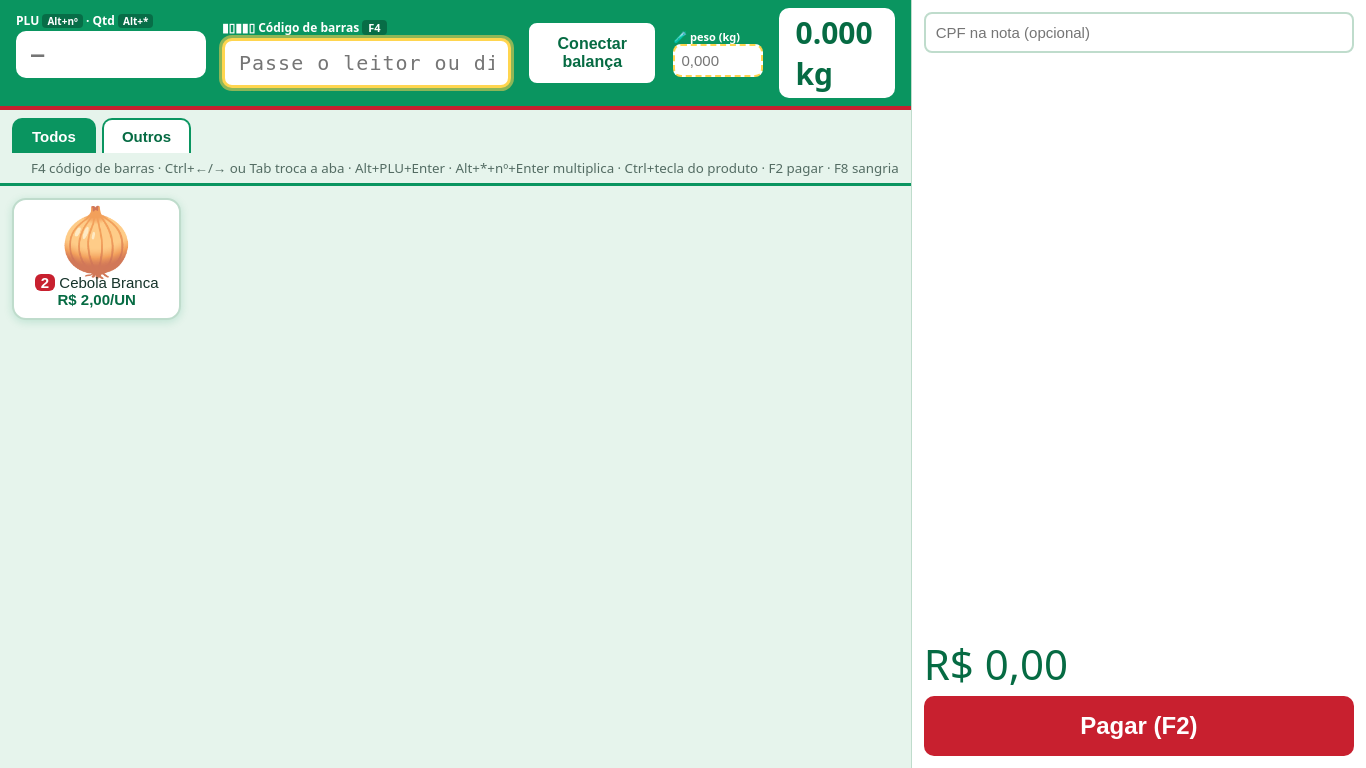
PDV: CPF de quem deve mostra o alerta e o painel do caderno
The width and height of the screenshot is (1366, 768).
Type "52998224725" into the field named "CPF na nota" at (1139, 32), box [924,12,1354,53]
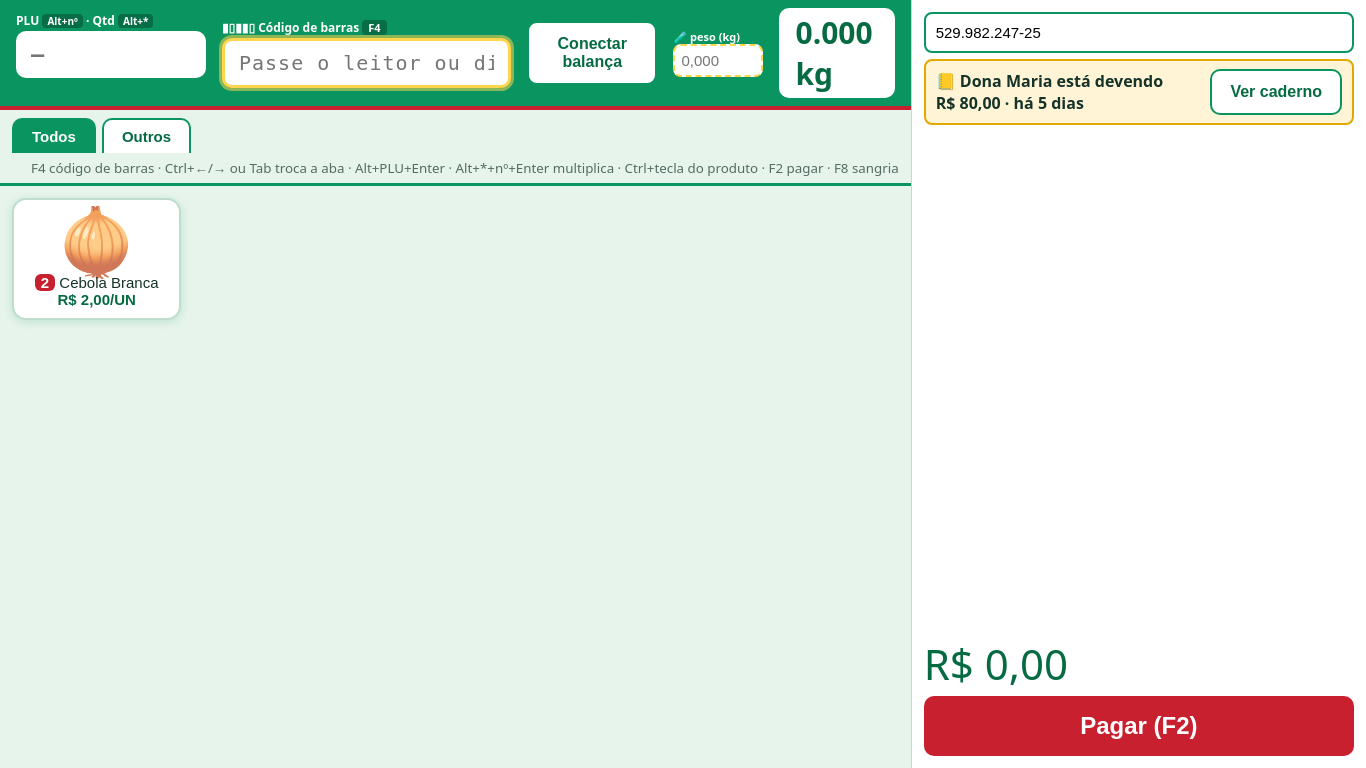
Check: the message "📒 Dona Maria está devendo R$ 80,00 · há 5 dias Ver caderno" is shown, box [924,59,1354,125]
Check: the message with class "alerta-fiado" shows "Dona Maria está devendo", box [936,70,1163,114]
Click the button "Ver caderno" at (1276, 92), box [1210,69,1342,115]
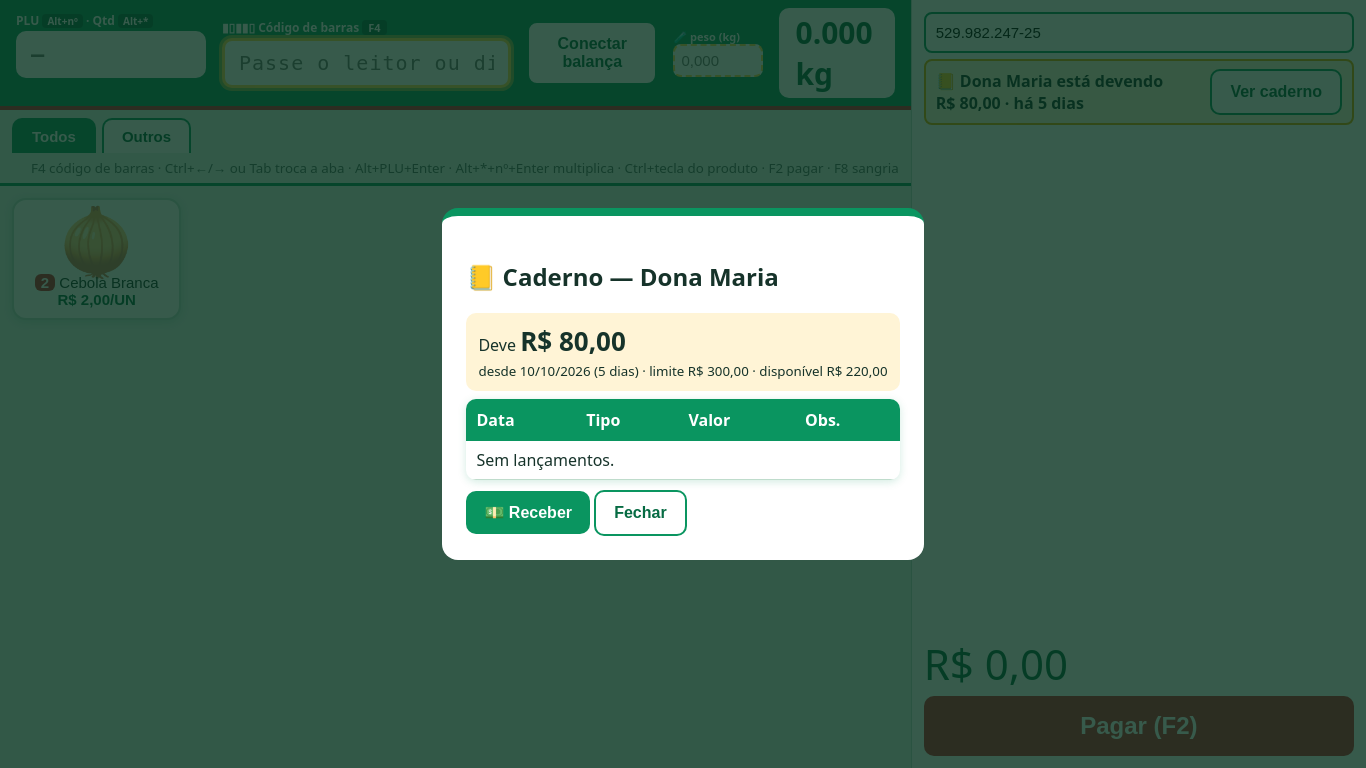
Check: the dialog named "Caderno do cliente" is shown
